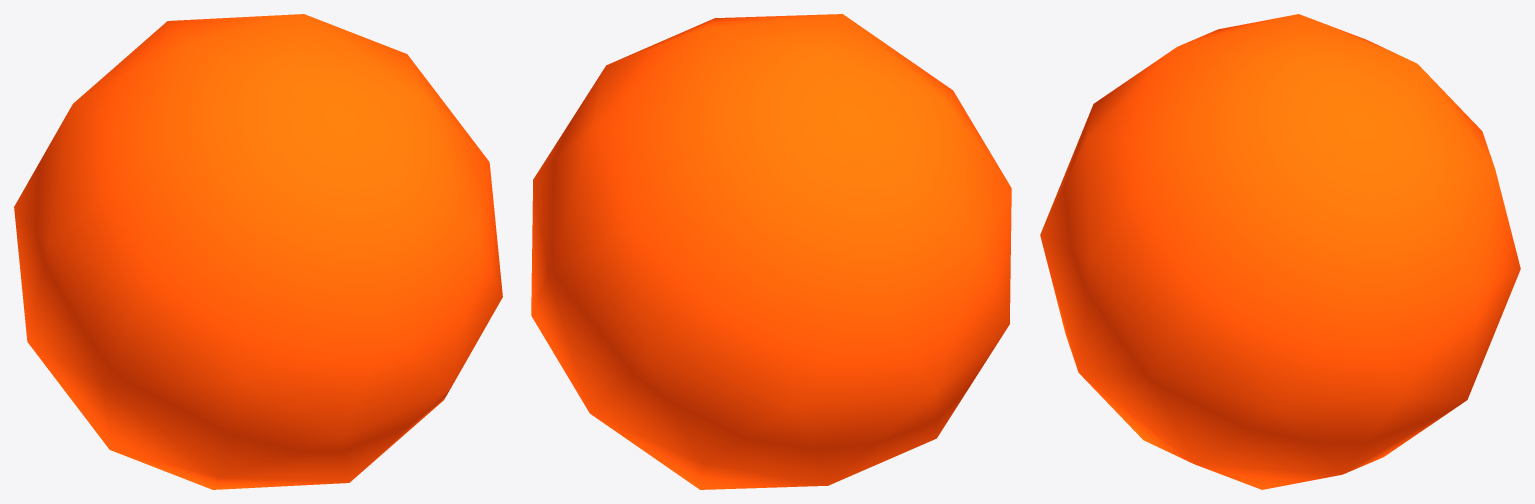
Rendered from Caviar.fbx.
3 renders of one model, left to right at view 1: azimuth 30°, elevation 25°; view 2: azimuth 150°, elevation 25°; view 3: azimuth 270°, elevation 25°, orthographic. The views are drawn at different scales.
Parts seen in each view (by area): view 1: Caviar; view 2: Caviar; view 3: Caviar.
Boxes of the visible parts, x1,y1,x2,y2 form: Caviar: [14, 14, 502, 489]; Caviar: [531, 14, 1011, 489]; Caviar: [1040, 14, 1520, 489].
Size of the model in its own units: 98.14 by 97.79 by 101.
